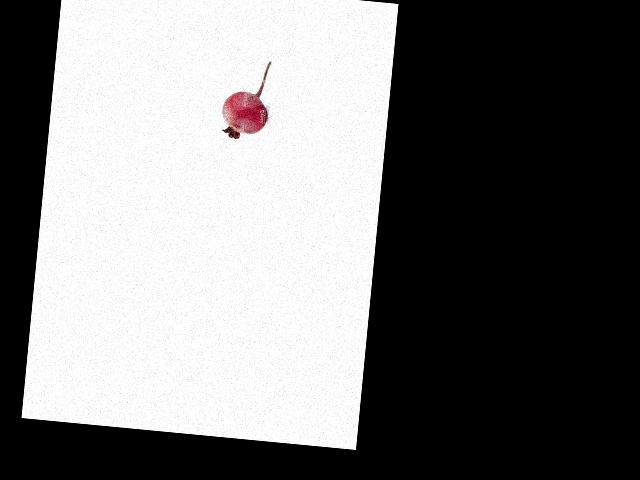beet: (220, 58, 272, 142)
